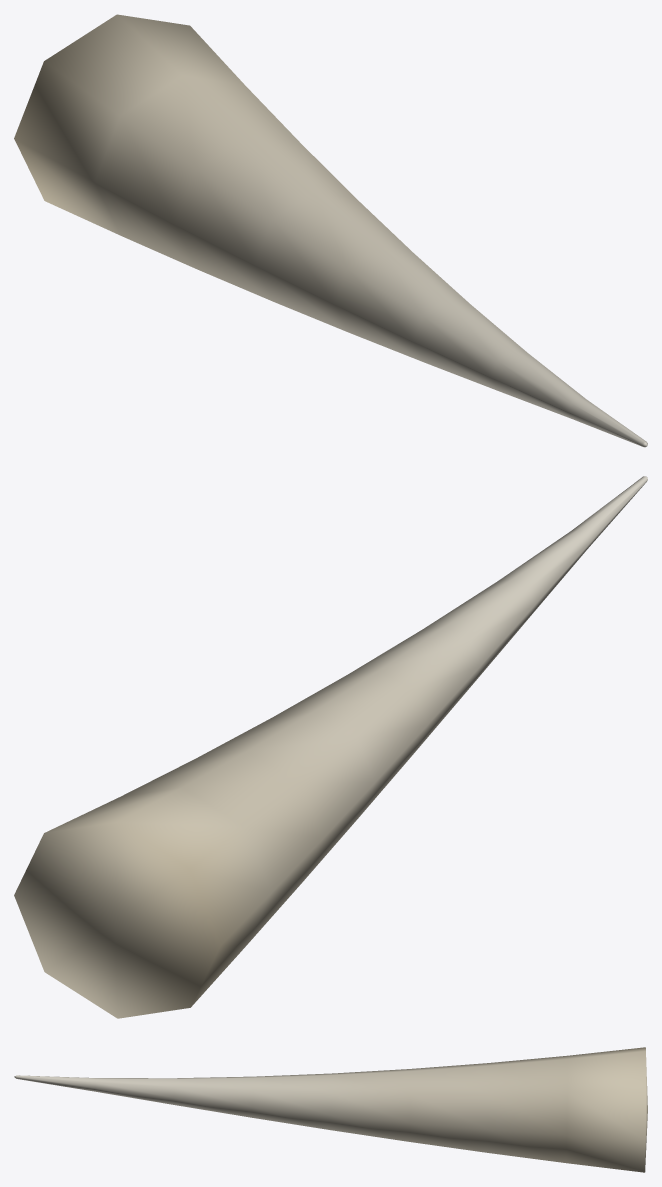
File: bone-tooth-b.glb
3 renders of one model, top to bottom at view 1: azimuth 30°, elevation 25°; view 2: azimuth 150°, elevation 25°; view 3: azimuth 270°, elevation 25°, orthographic. The views are drawn at different scales.
Parts seen in each view (by area): view 1: bone-tooth-b; view 2: bone-tooth-b; view 3: bone-tooth-b.
Boxes of the visible parts, x1,y1,x2,y2 form: bone-tooth-b: (14, 14, 647, 447); bone-tooth-b: (14, 476, 647, 1018); bone-tooth-b: (14, 1047, 647, 1172).
Bounding box in the file's own units: 0.226 × 0.206 × 1.01.
